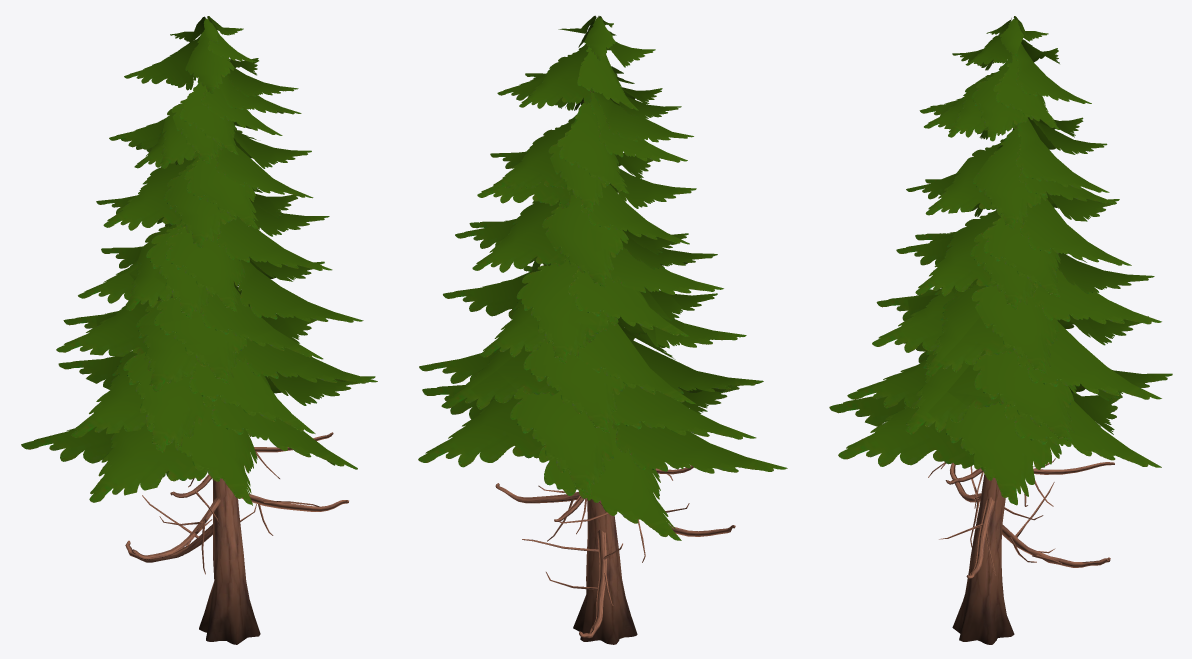
File: Pine_4_LOD.glb
3 views of the same model, side by side, from view 1: azimuth 30°, elevation 25°; view 2: azimuth 150°, elevation 25°; view 3: azimuth 270°, elevation 25° (orthographic). The views are drawn at different scales.
Visible parts, largest first — view 1: Pine_4; view 2: Pine_4; view 3: Pine_4.
Boxes of the visible parts, <box> form: Pine_4: <box>21,16,377,644</box>; Pine_4: <box>418,15,787,644</box>; Pine_4: <box>829,16,1172,644</box>.
Bounding box in the file's own units: 5.8 × 10.24 × 5.37.
2 materials, 2 textured.
